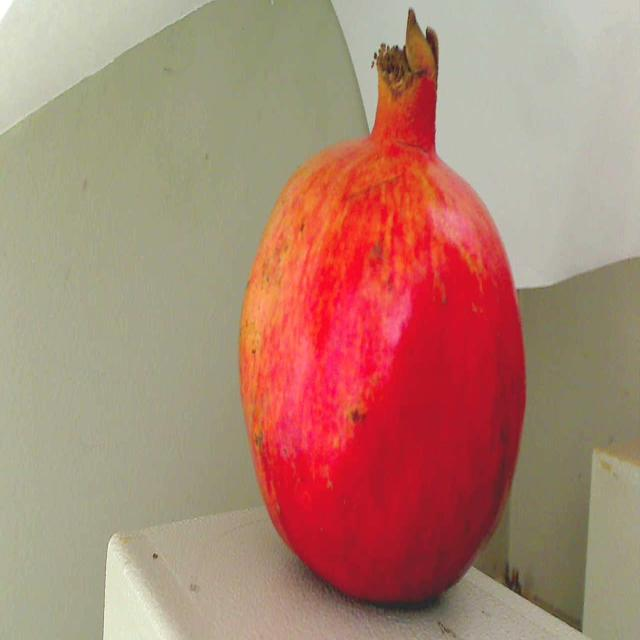pomegranate: (236, 16, 536, 625)
